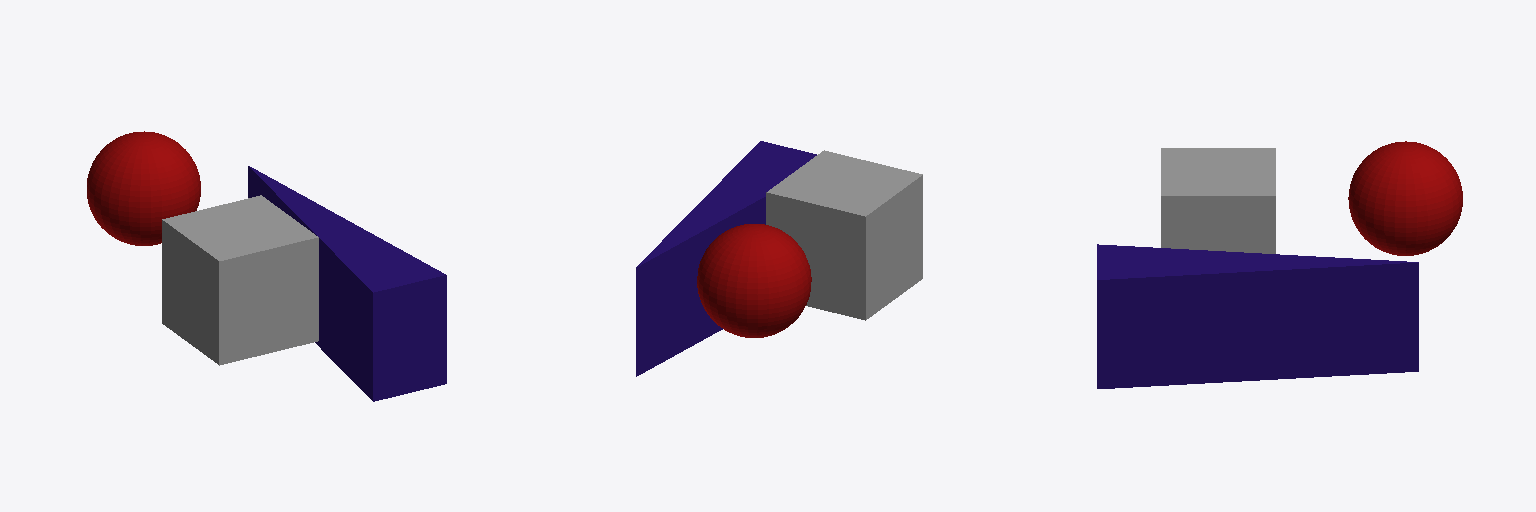
Rendered from axisCube.obj.
3 renders of one model, left to right at view 1: azimuth 30°, elevation 25°; view 2: azimuth 150°, elevation 25°; view 3: azimuth 270°, elevation 25°, orthographic.
Size of the model in its own units: 3.98 by 3.27 by 6.38.